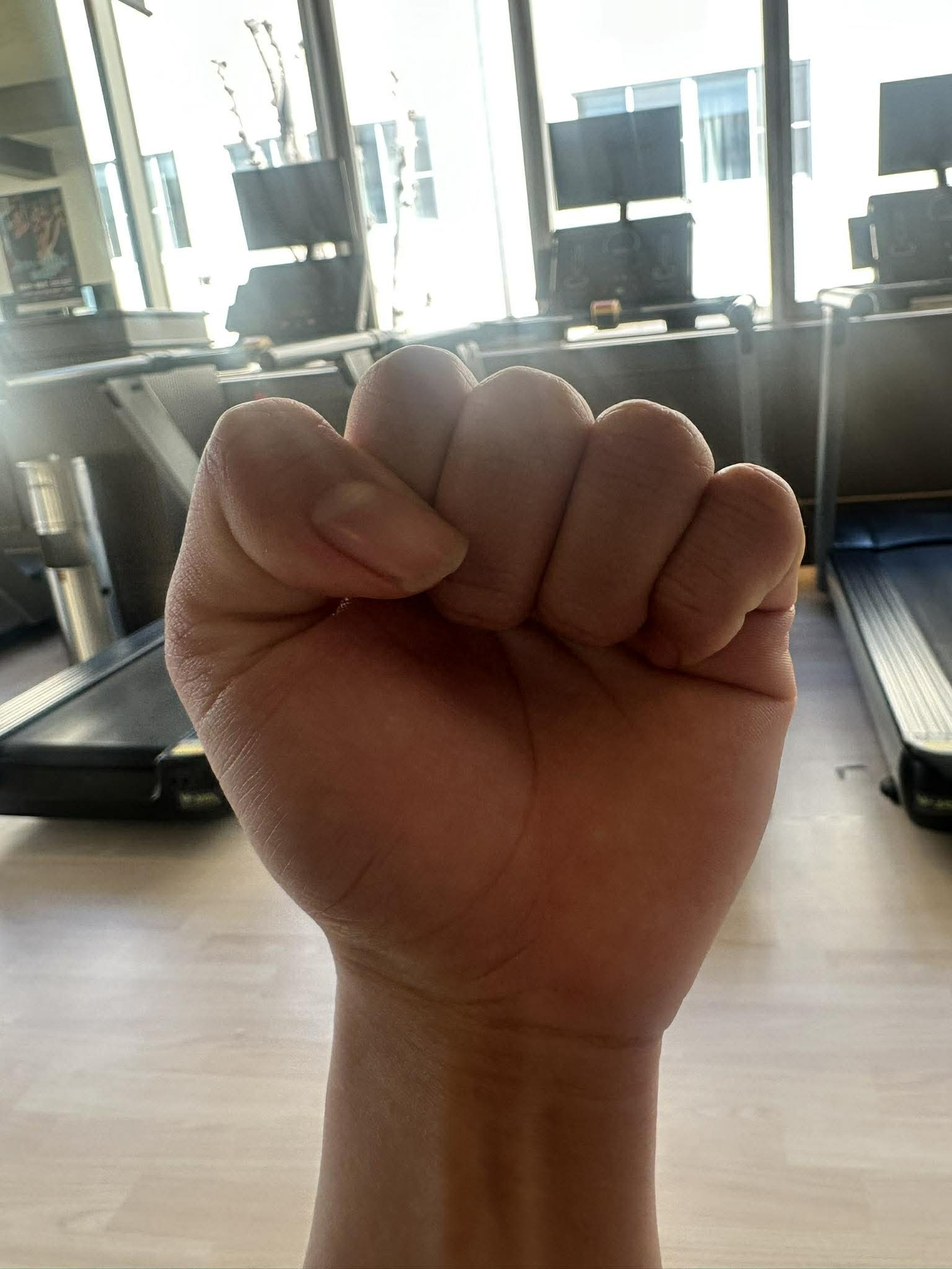right_closed_palm: (223, 391, 747, 990)
